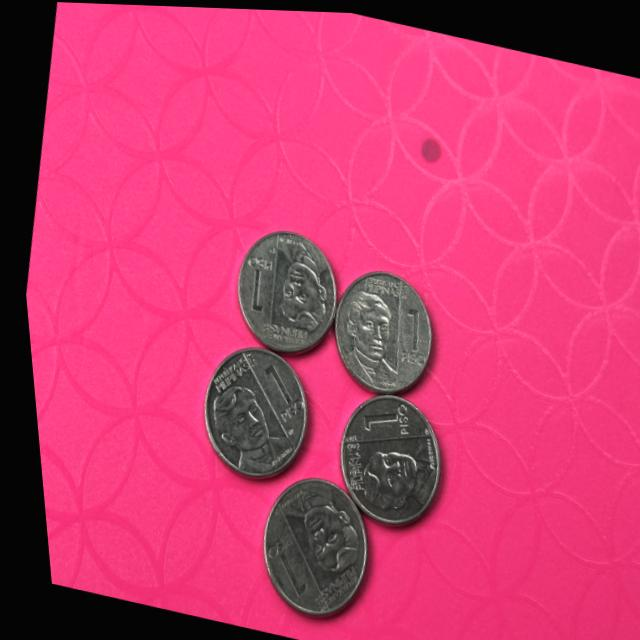1_New_Front: (246, 356, 306, 425), (246, 530, 308, 596), (224, 245, 277, 321), (377, 295, 432, 368), (346, 385, 412, 444)
